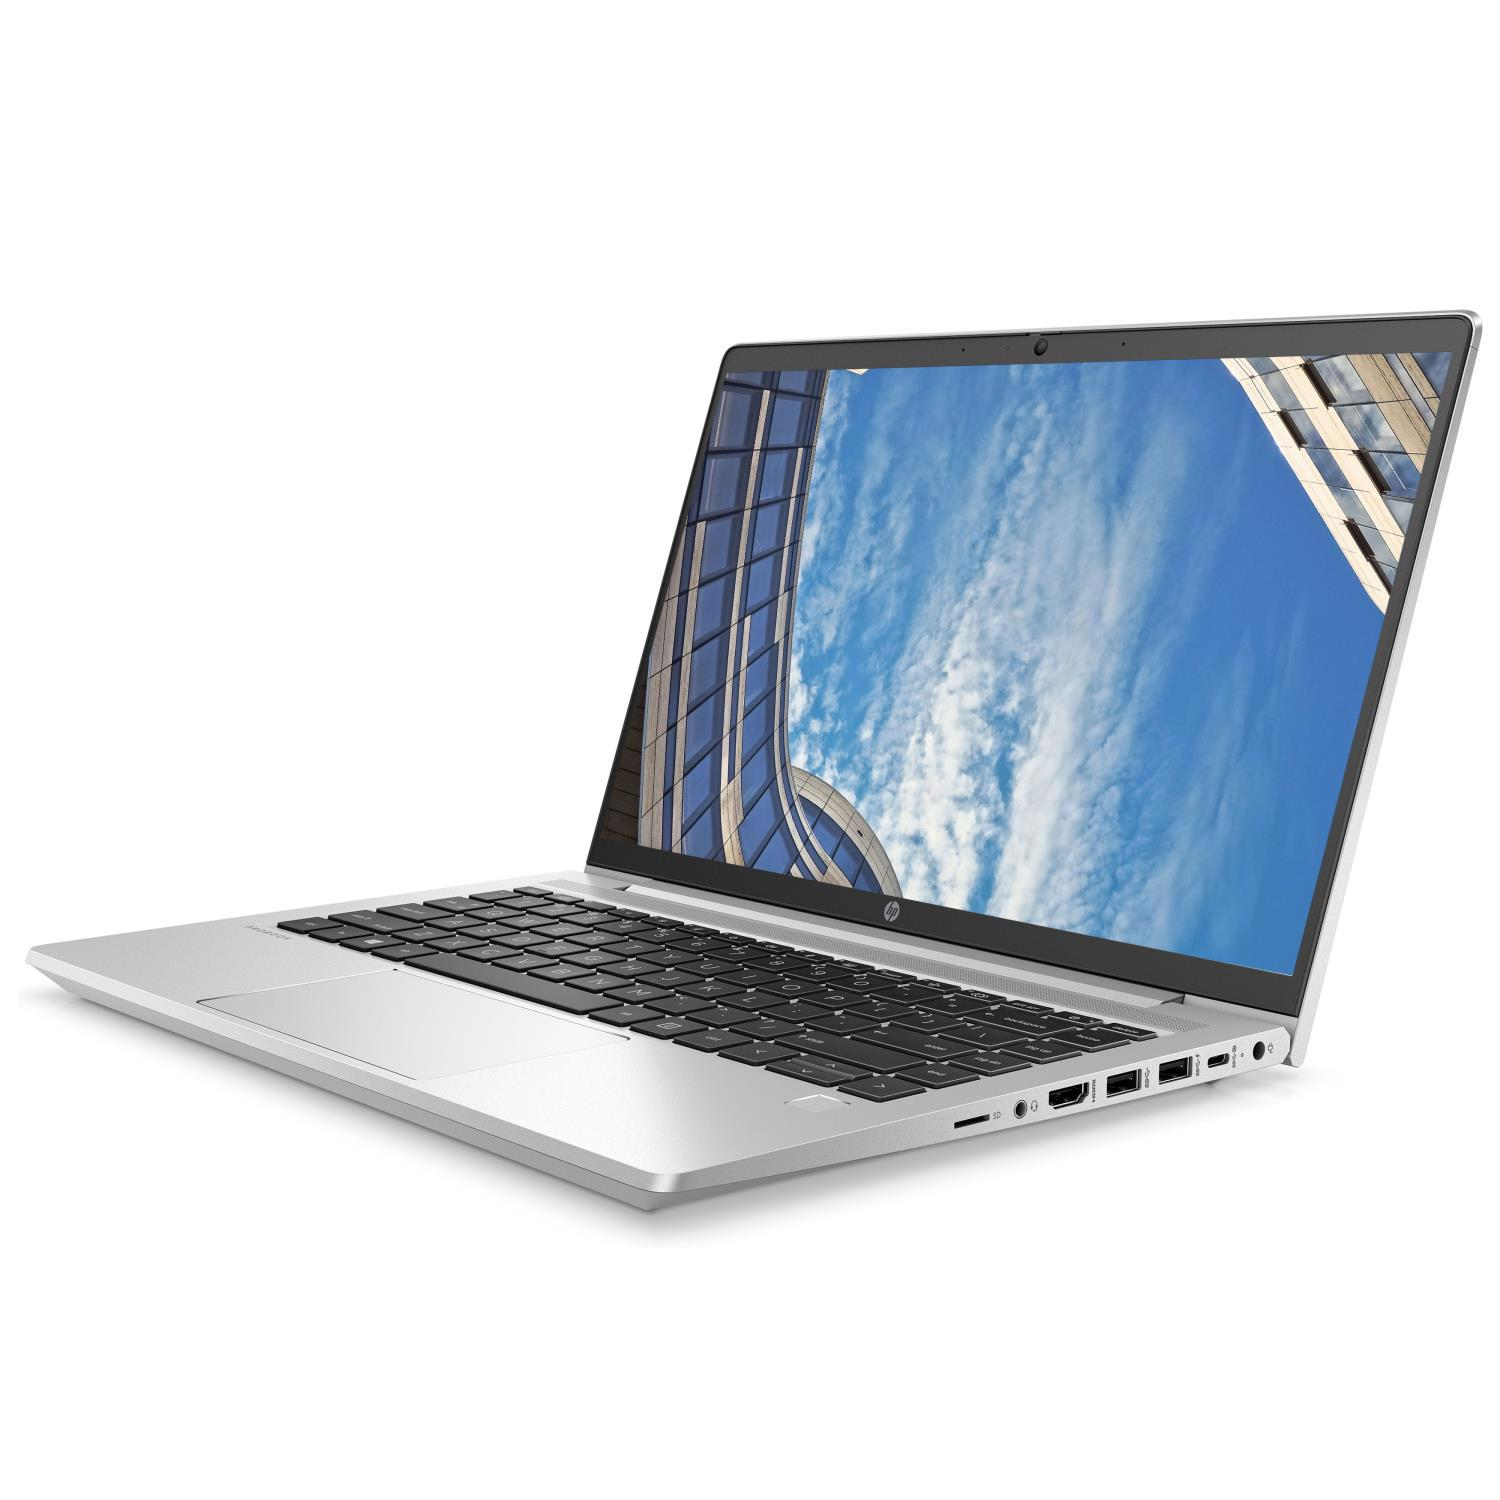laptop: (25, 310, 1482, 1201)
